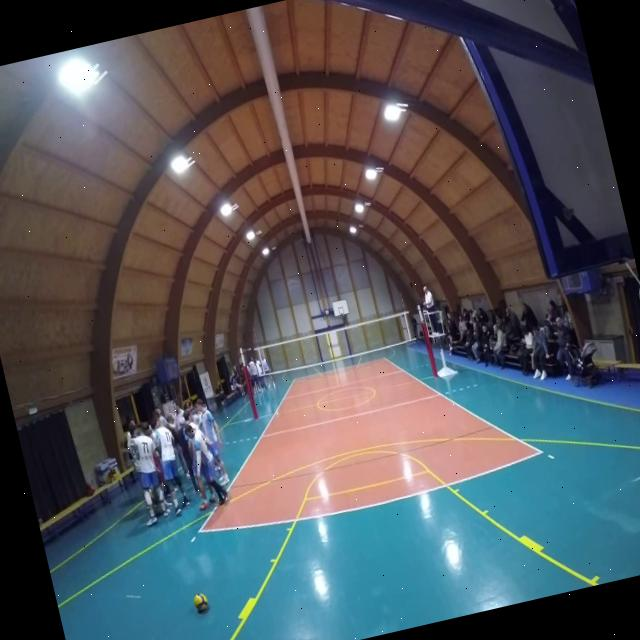Volleyball: (192, 592, 211, 616)
